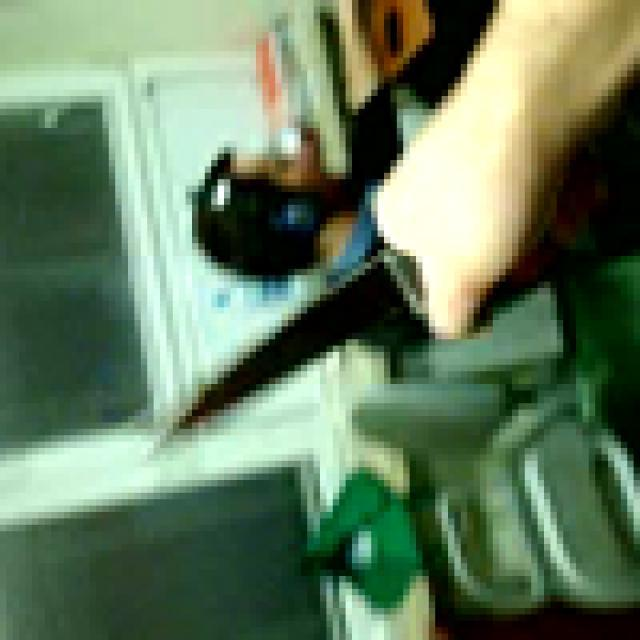Knife: (154, 173, 620, 448)
